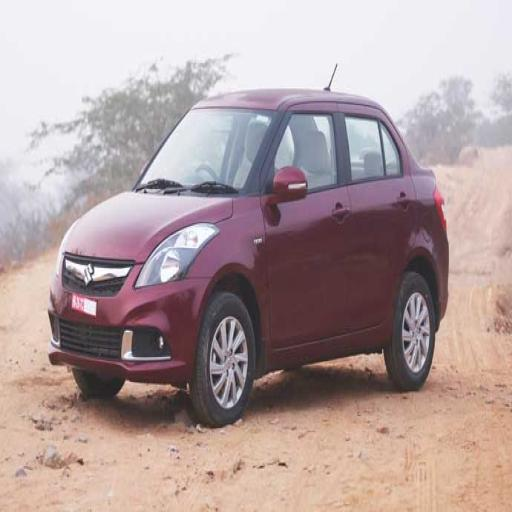License: (70, 289, 111, 324)
